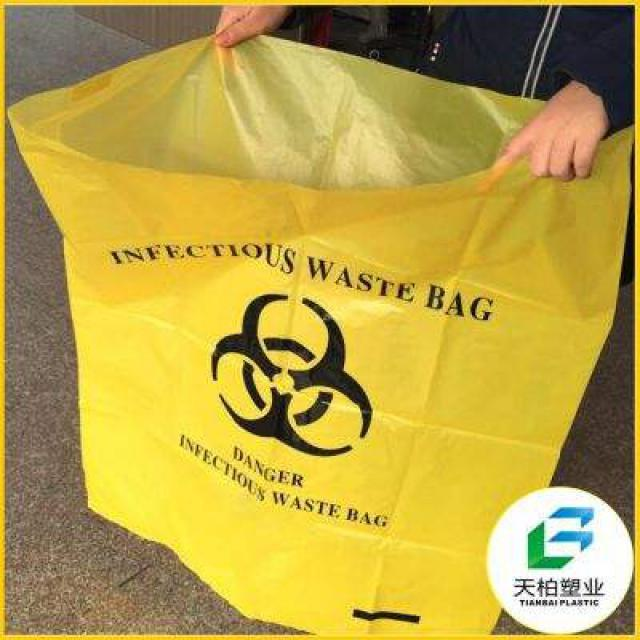waste: (16, 36, 610, 623)
